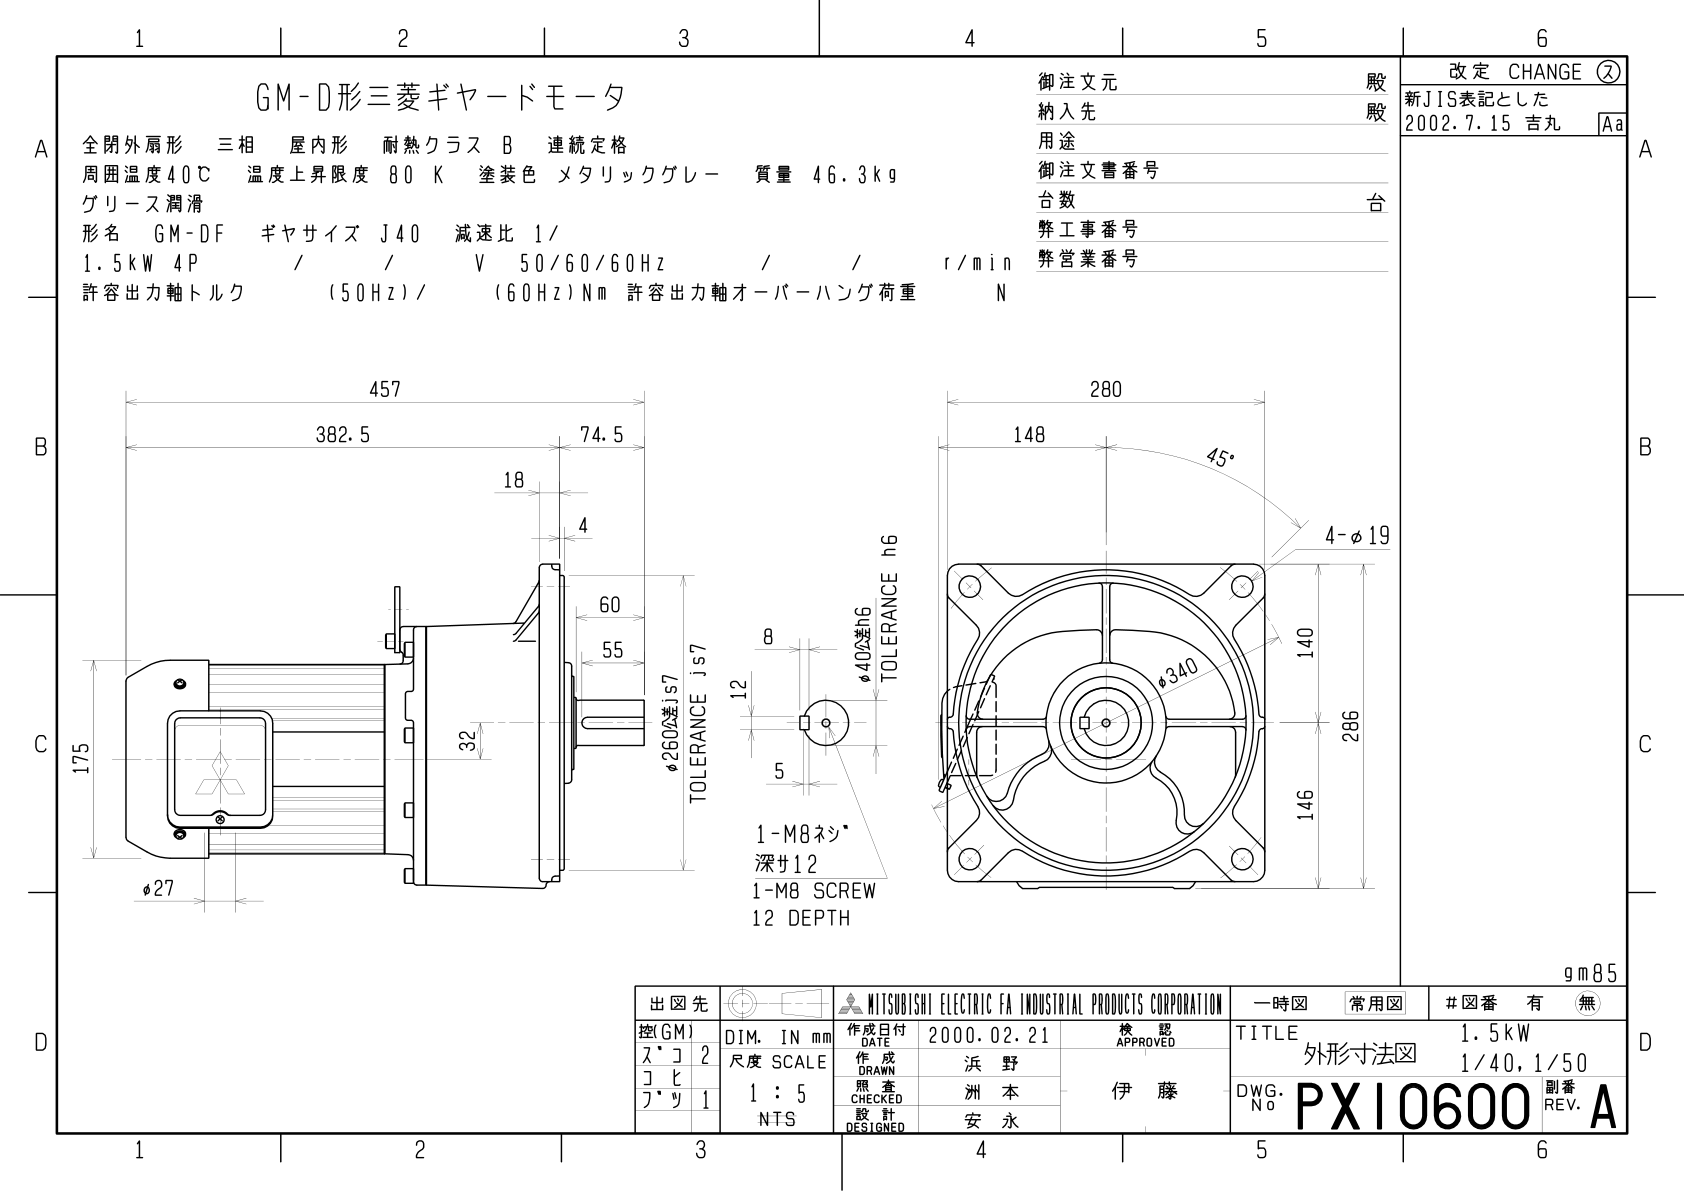GM_D_屋内＿三相_フランジ: (63, 345, 1395, 949)
